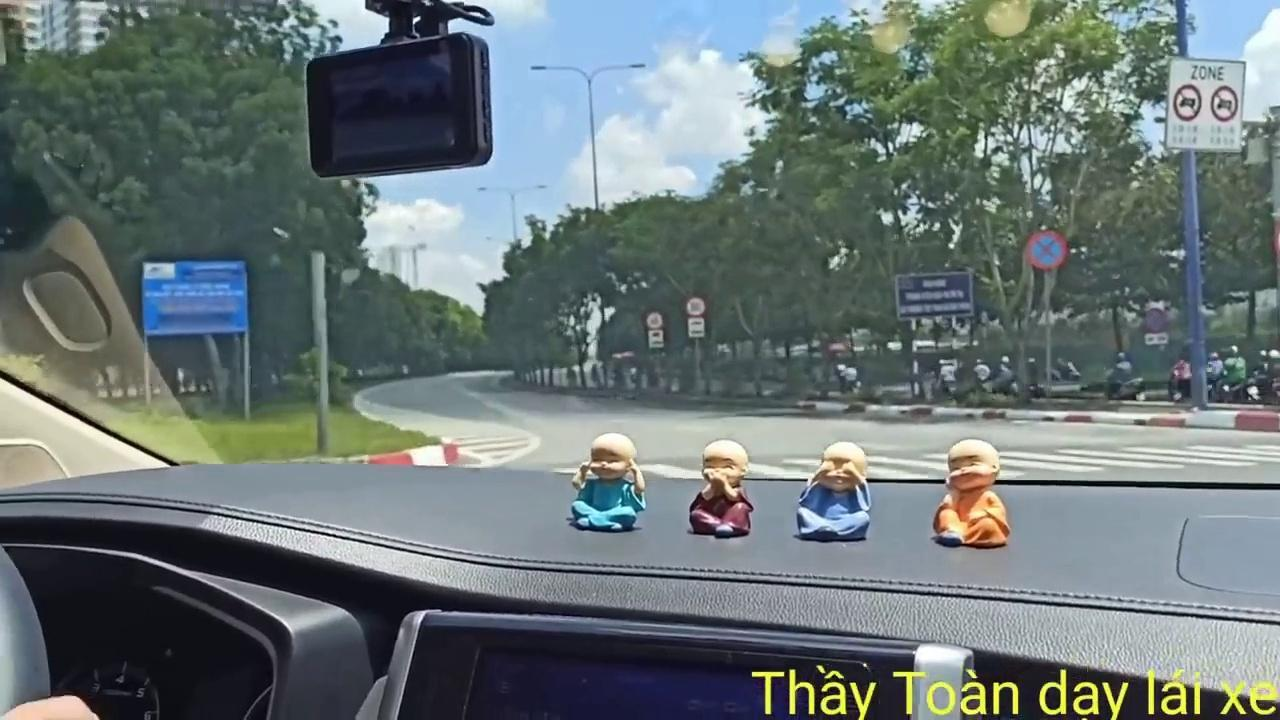Biển phụ: (688, 315, 705, 338), (647, 330, 663, 349)
Cấm cac phương tiện hoạt động trong khung giờ cố định: (1166, 55, 1248, 158)
Cấm dừng - Cấm đỗ: (1022, 225, 1066, 273)
Khác: (140, 260, 248, 336)
